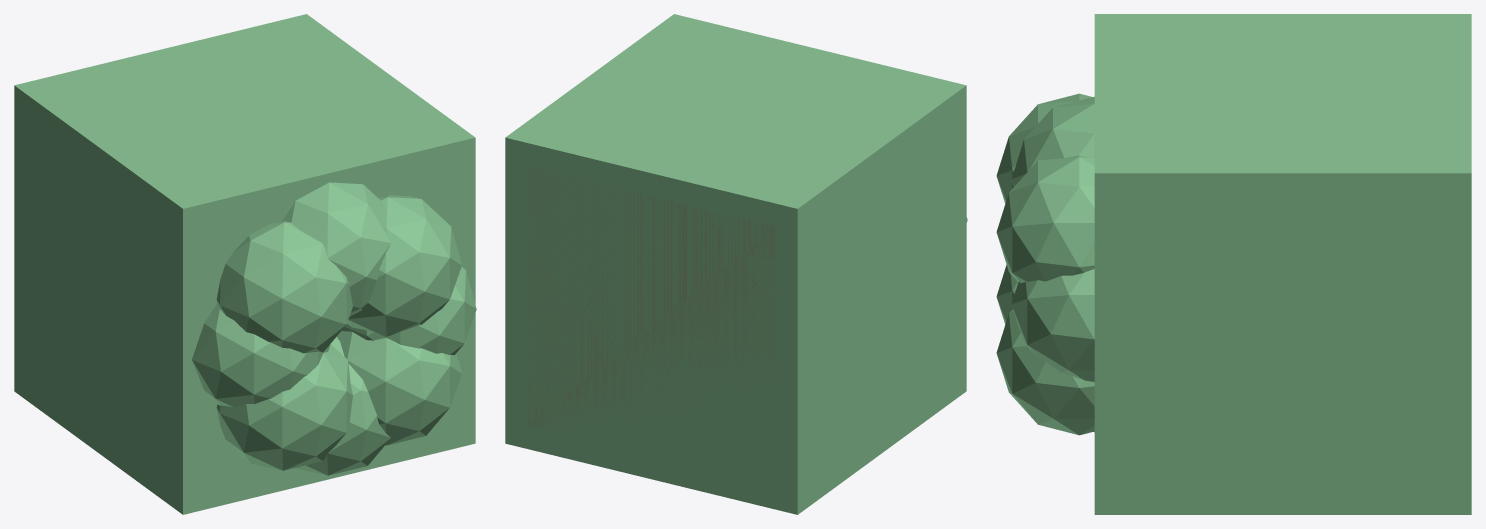
The model's file is 78_mango_canopy.glb.
3 renders of one model, left to right at view 1: azimuth 30°, elevation 25°; view 2: azimuth 150°, elevation 25°; view 3: azimuth 270°, elevation 25°, orthographic. The views are drawn at different scales.
Parts seen in each view (by area): view 1: Core, Leaf_3, Leaf_5, Leaf_1, Leaf_7, Leaf_4, Leaf_2, Leaf_6, Leaf_0; view 2: Core, Soil; view 3: Core, Leaf_1, Leaf_0, Leaf_7, Leaf_2, Leaf_3, Leaf_5.
Part boxes in pixels (left/top/right/bottom): Core: left=14, top=14, right=475, bottom=514; Leaf_3: left=216, top=221, right=352, bottom=353; Leaf_5: left=216, top=344, right=352, bottom=470; Leaf_1: left=347, top=195, right=461, bottom=336; Leaf_7: left=336, top=331, right=461, bottom=445; Leaf_4: left=192, top=303, right=330, bottom=407; Leaf_2: left=282, top=182, right=390, bottom=316; Leaf_6: left=295, top=337, right=390, bottom=475; Leaf_0: left=341, top=267, right=476, bottom=355; Core: left=505, top=14, right=966, bottom=514; Soil: left=527, top=166, right=775, bottom=452; Core: left=1094, top=14, right=1471, bottom=514; Leaf_1: left=996, top=155, right=1094, bottom=283; Leaf_0: left=1011, top=269, right=1094, bottom=381; Leaf_7: left=996, top=309, right=1094, bottom=435; Leaf_2: left=1011, top=96, right=1094, bottom=186; Leaf_3: left=996, top=93, right=1092, bottom=203; Leaf_5: left=996, top=265, right=1018, bottom=324.
Bounding box in the file's own units: 1 × 1 × 1.26.
